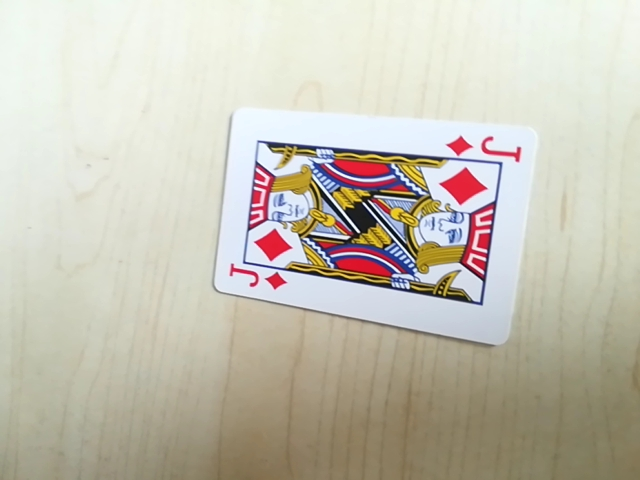fk j: (446, 129, 526, 164), (226, 264, 288, 295)
